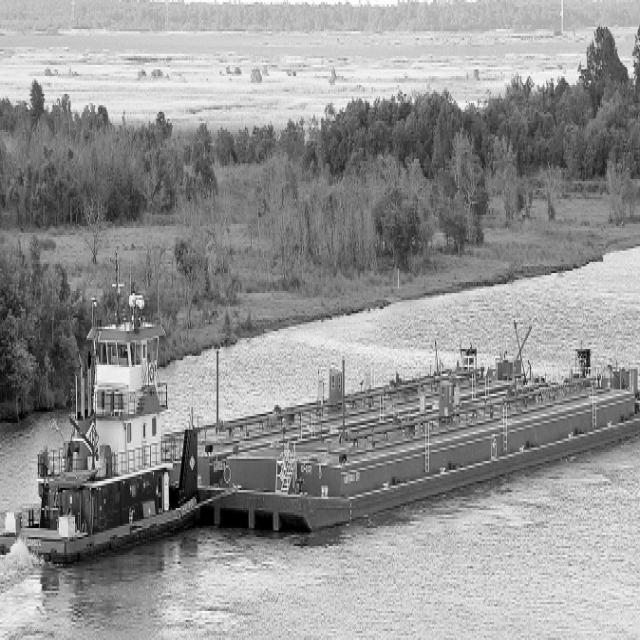tugboat: (1, 250, 216, 581)
